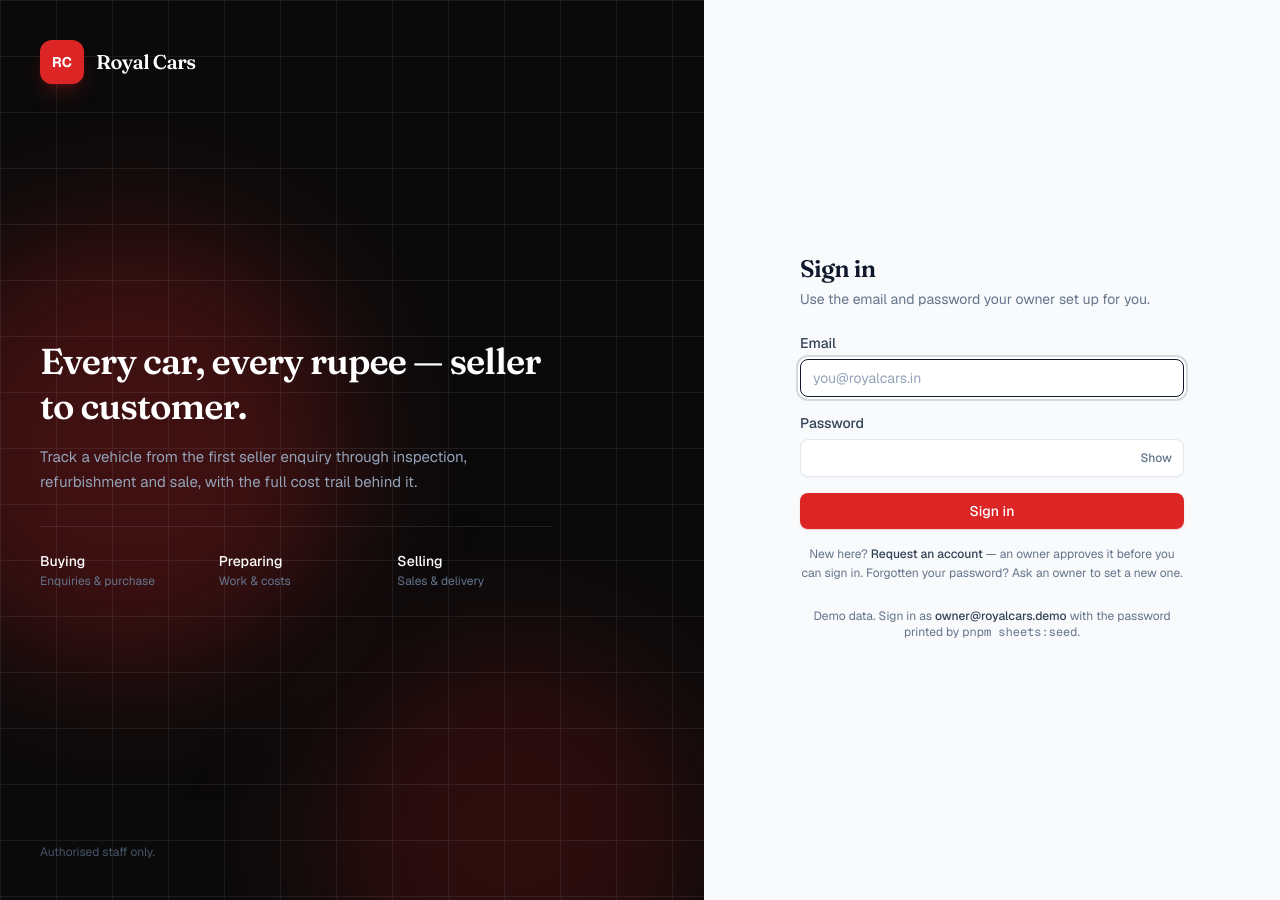
Leads and customers › lists leads and customers
Type "owner@royalcars.demo" into the field labelled "Email" at {"x": 992, "y": 378}, box 800,359 -> 1184,397
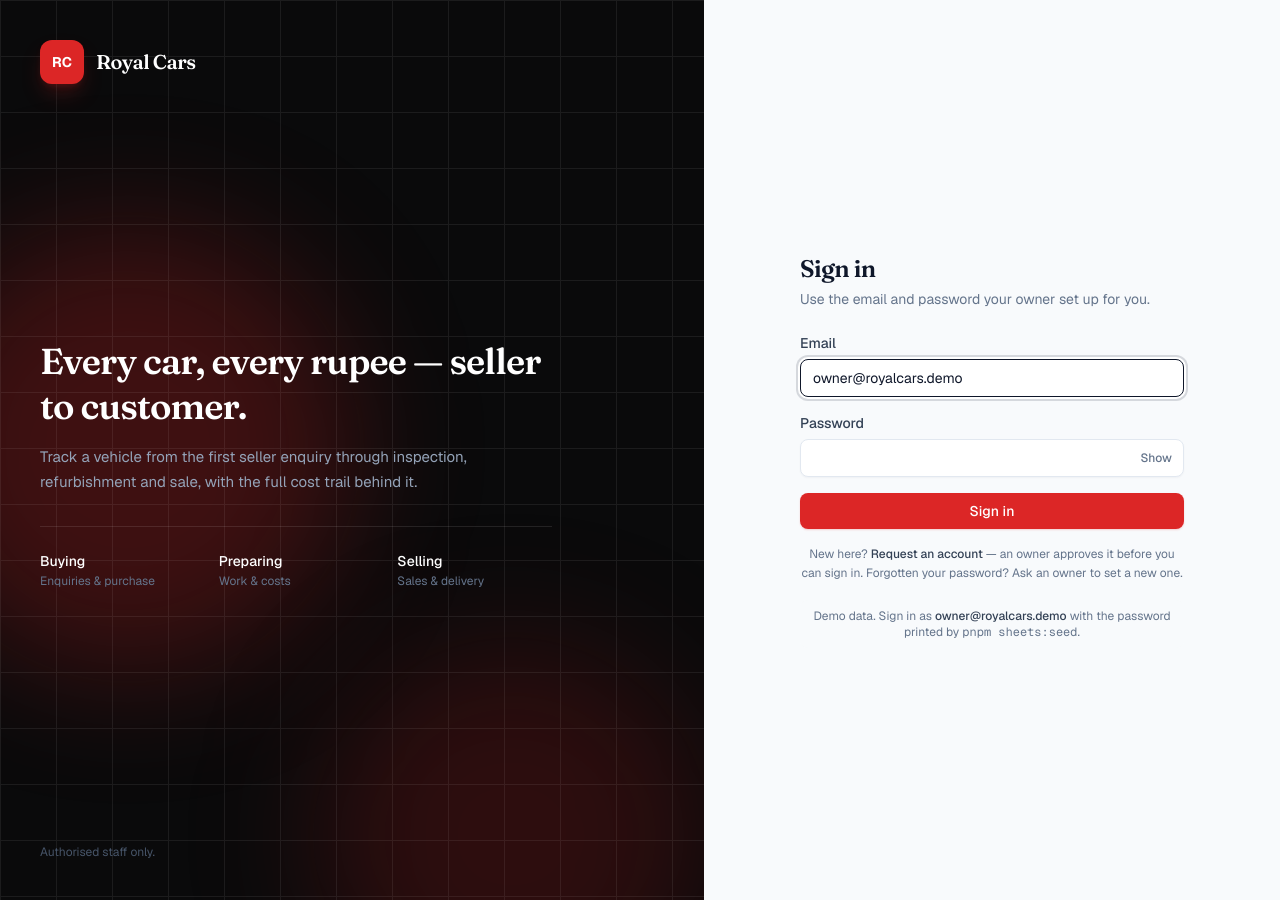
Type "Showroom-Demo-2026" into the password field at {"x": 992, "y": 458}, box 800,439 -> 1184,477
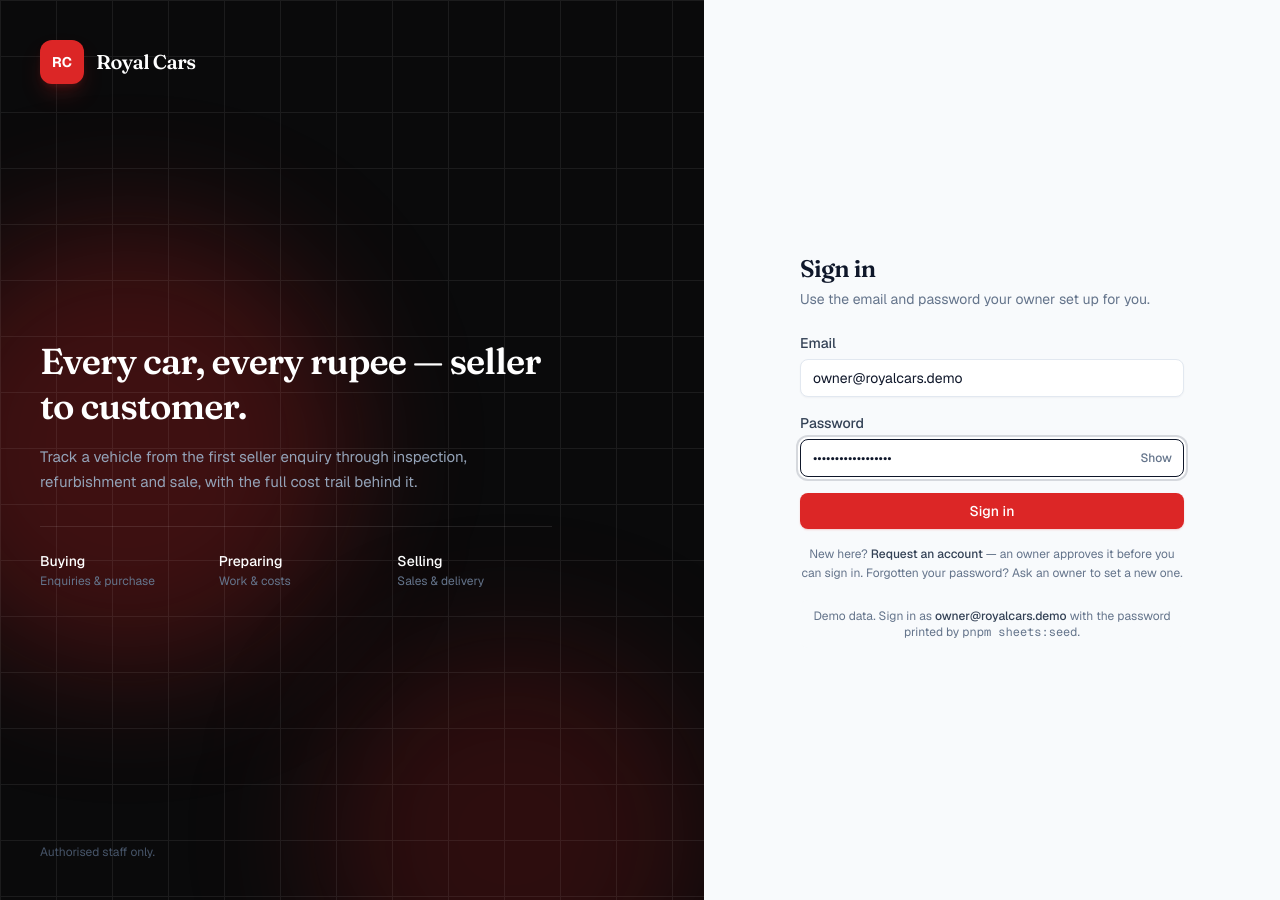
Click the submit button at {"x": 992, "y": 511}, box 800,493 -> 1184,529
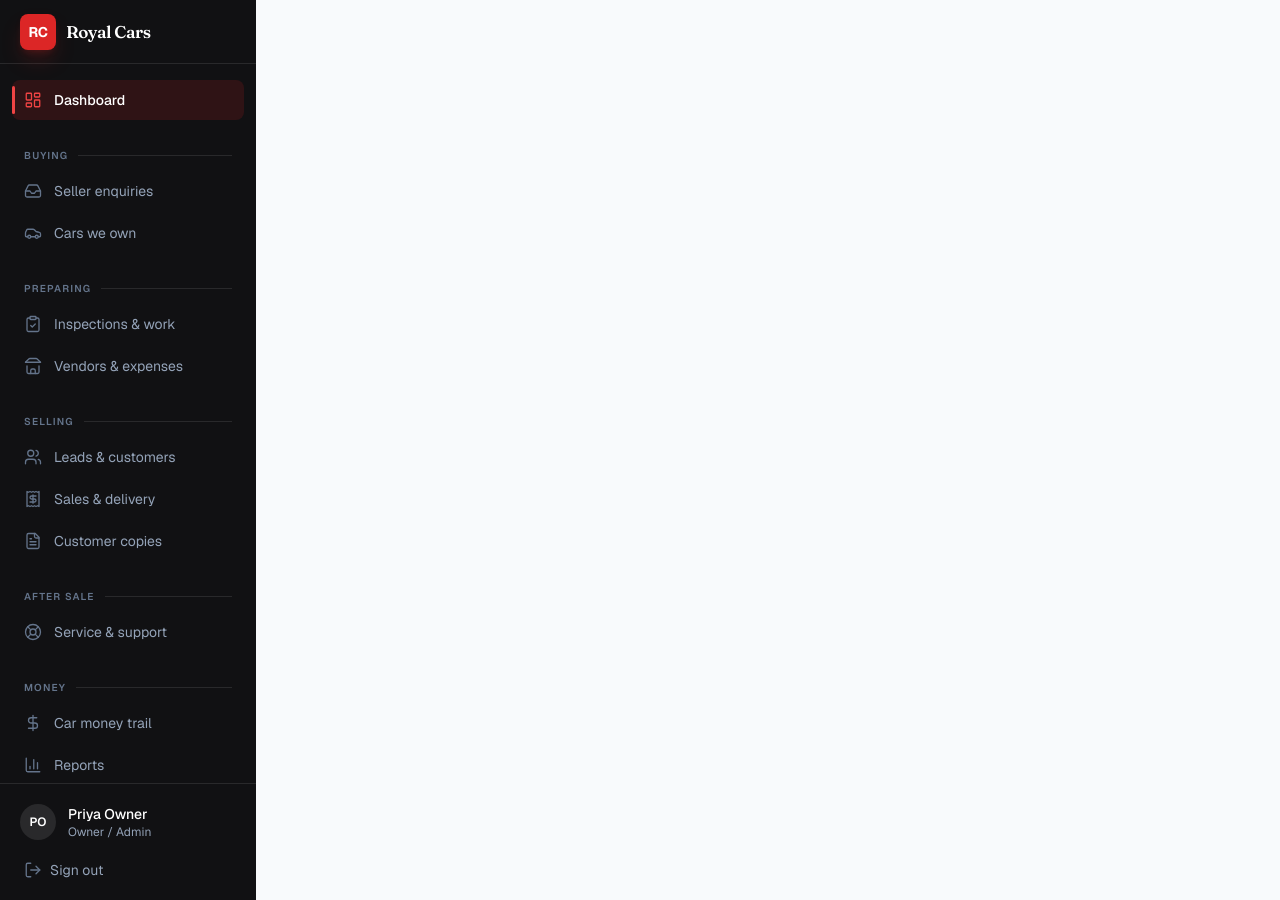
Open "/leads"
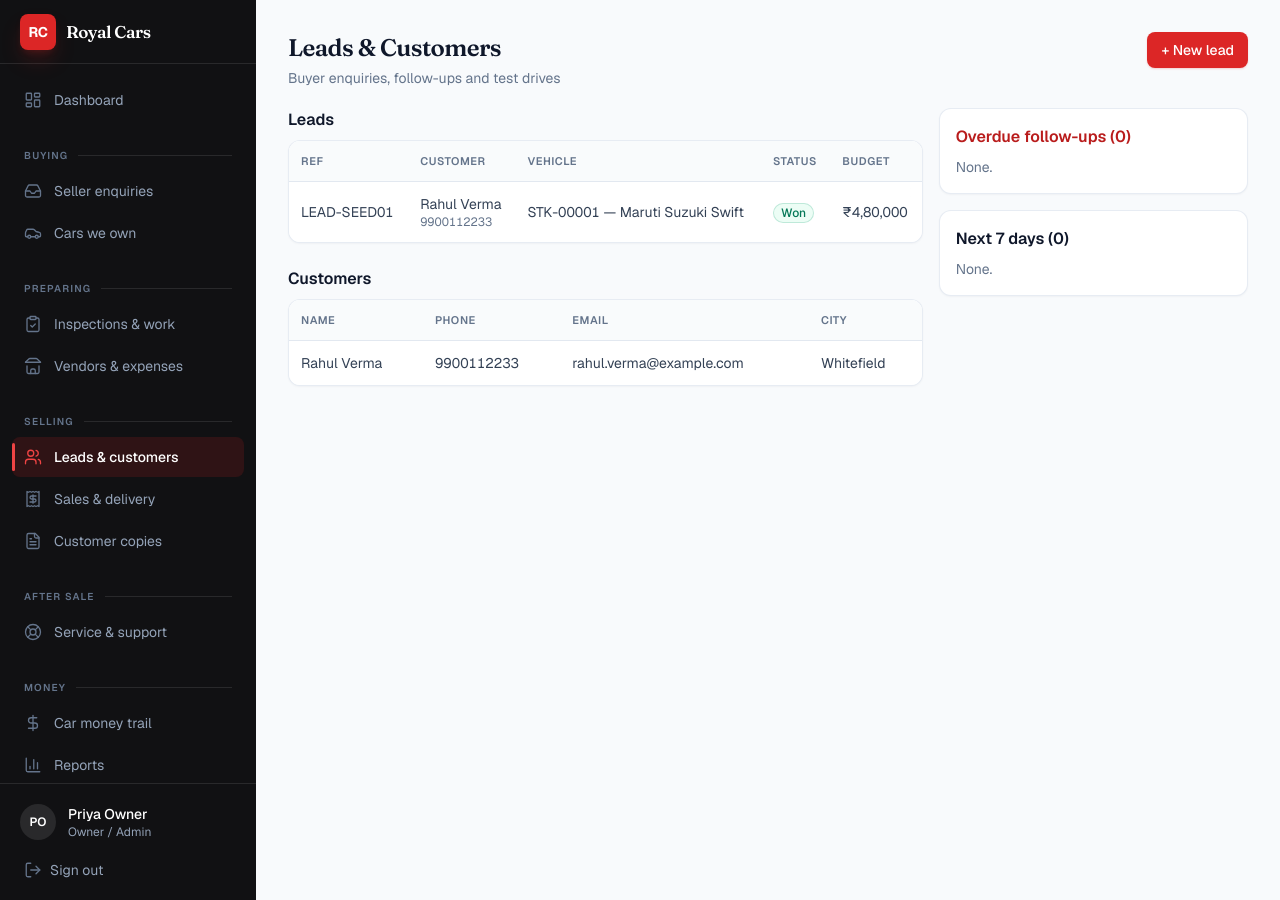
Check: the heading "Leads & Customers" is shown, box 288,33 -> 501,62
